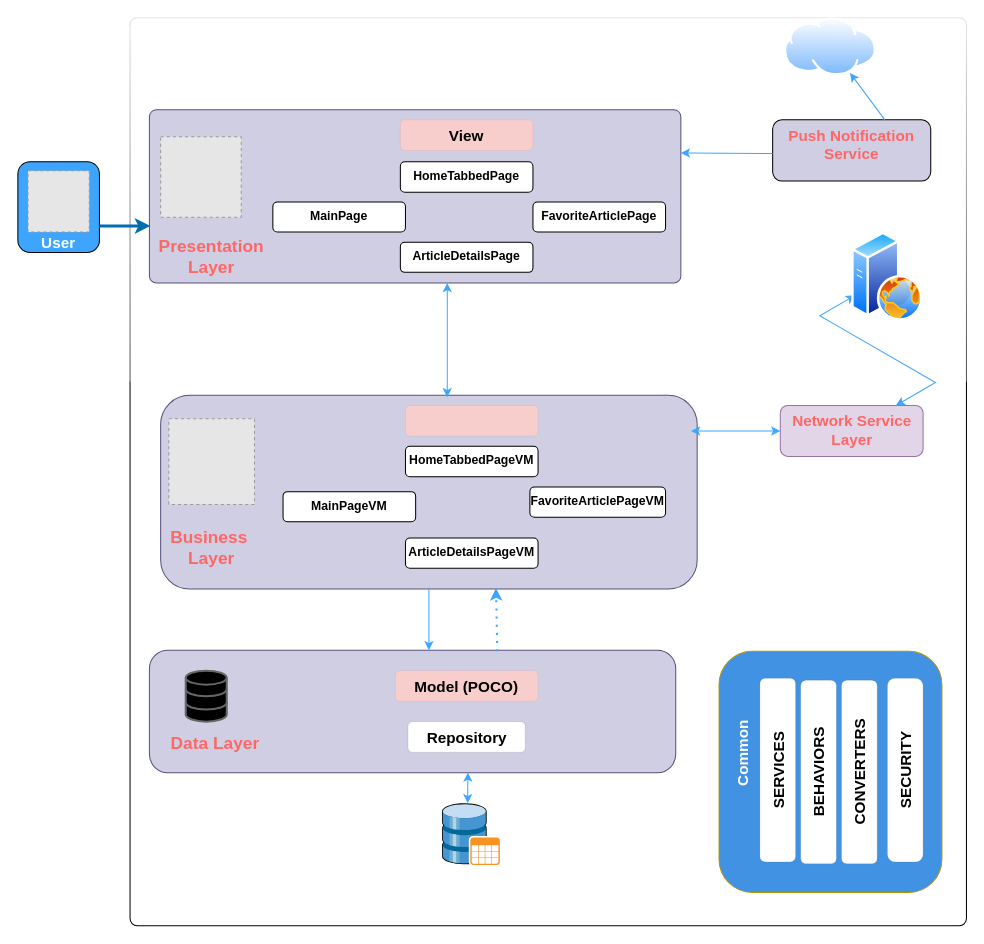
The diagram is 984 pixels wide and 944 high, and some of its shapes have lost their labels. Grey dashed boxes stand in for pictures. Here are the shapes that lost their labels. From the top down, the centre of each, then its label:
At (x=830, y=46): "FCM".
At (x=887, y=276): "News Api Server".
At (x=471, y=420): "ViewModel".
At (x=471, y=834): "SQLite".
